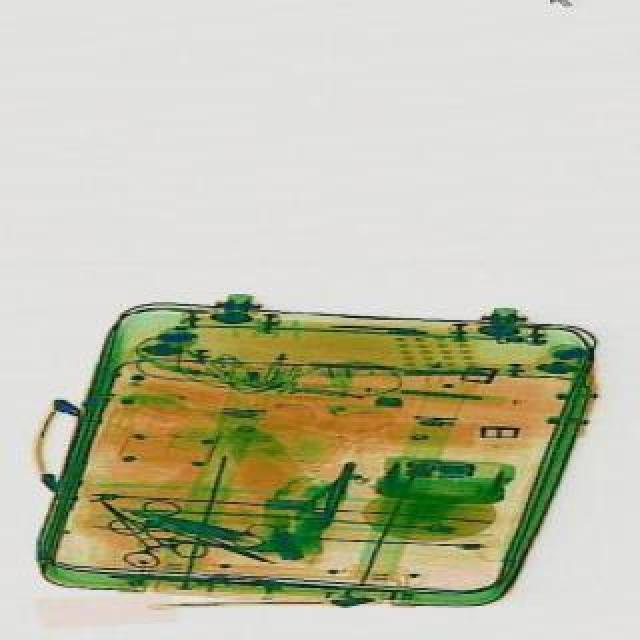pliers: (104, 482, 286, 588), (78, 474, 206, 594), (192, 504, 280, 560), (136, 518, 220, 566)
